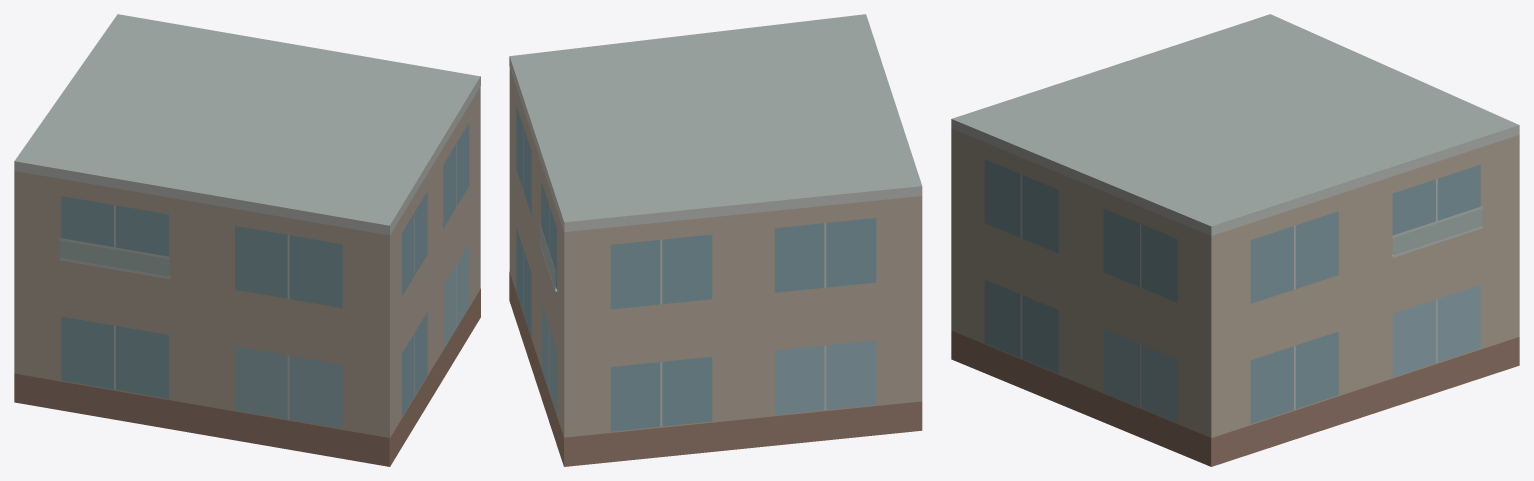
The model's file is survey-upis-33029452.glb.
3 renders of one model, left to right at view 1: azimuth 30°, elevation 25°; view 2: azimuth 150°, elevation 25°; view 3: azimuth 270°, elevation 25°, orthographic.
Parts seen in each view (by area): view 1: survey-upis-33029452.tmp; view 2: survey-upis-33029452.tmp; view 3: survey-upis-33029452.tmp.
Boxes of the visible parts, <box> form: survey-upis-33029452.tmp: <box>14,14,480,466</box>; survey-upis-33029452.tmp: <box>509,14,922,466</box>; survey-upis-33029452.tmp: <box>951,14,1519,466</box>.
Size of the model in its own units: 11.57 by 6.1 by 13.08.
